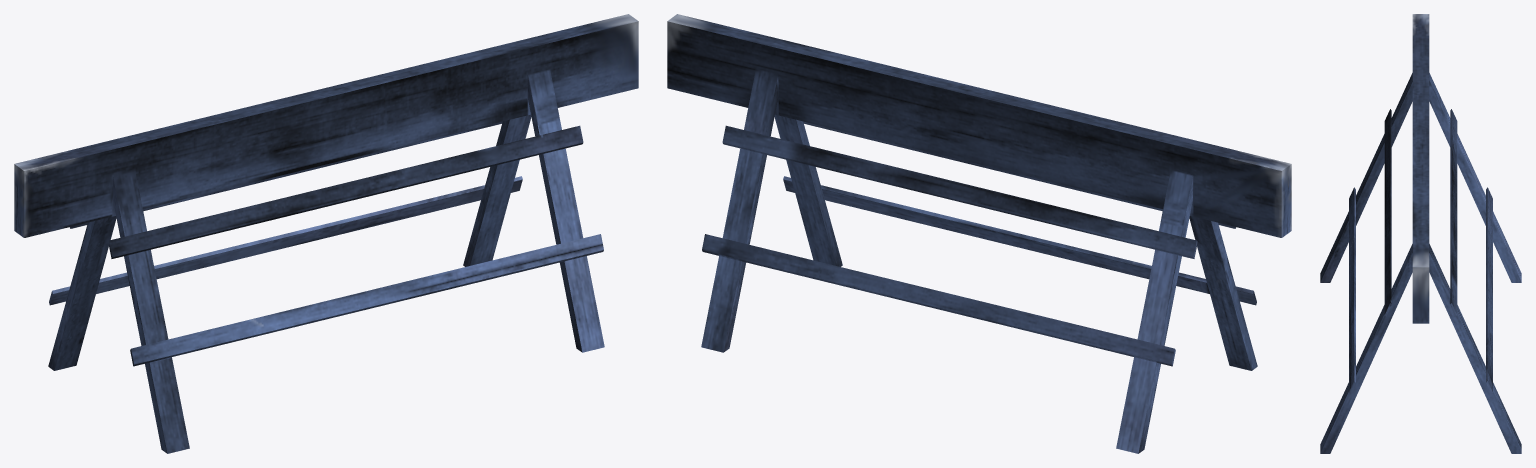
Rendered from barrage, 5 — копия.fbx.
The picture shows the model from 3 angles, left to right: view 1: azimuth 30°, elevation 25°; view 2: azimuth 150°, elevation 25°; view 3: azimuth 270°, elevation 25°; orthographic projection. The views are drawn at different scales.
Visible parts, largest first — view 1: Cube; view 2: Cube; view 3: Cube.
Boxes of the visible parts, <box> form: Cube: <box>14,14,638,453</box>; Cube: <box>667,14,1291,453</box>; Cube: <box>1320,14,1521,453</box>.
Size of the model in its own units: 2.09 by 0.8585 by 0.7025.
